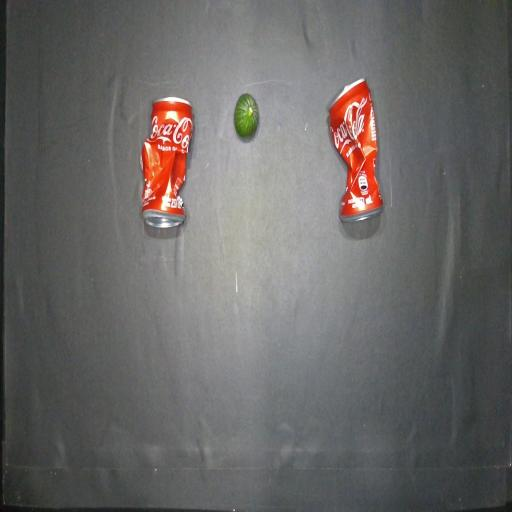higo: (234, 93, 259, 138)
lata_defectuoso: (329, 79, 383, 221), (141, 97, 193, 228)
